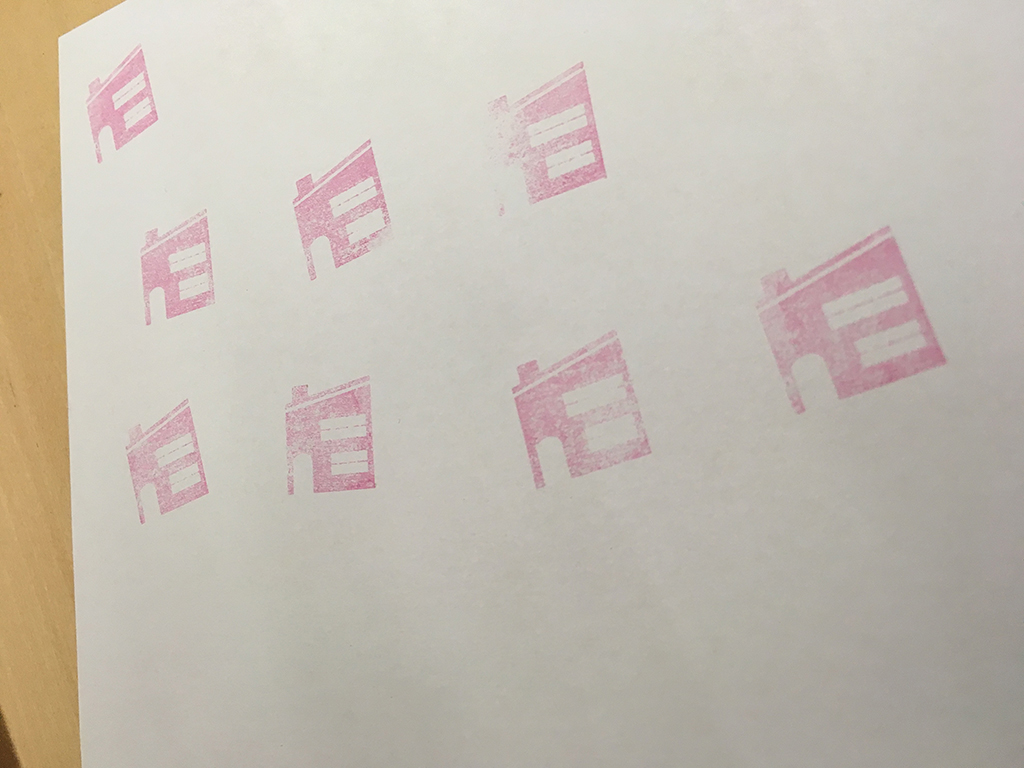house: (736, 217, 960, 419), (497, 326, 666, 497), (476, 52, 620, 221), (279, 131, 400, 287), (113, 394, 221, 529), (274, 374, 383, 505), (76, 39, 172, 173), (130, 202, 221, 332)
